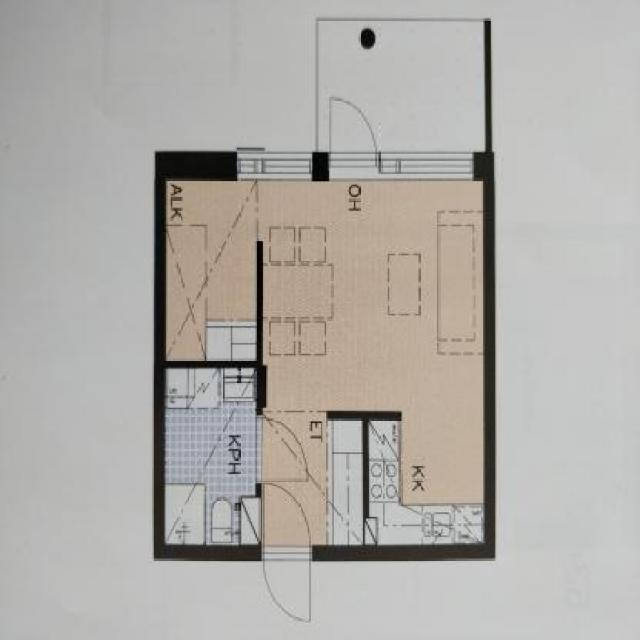door: (258, 478, 322, 624), (256, 412, 310, 490), (330, 95, 376, 174)
window: (237, 151, 314, 183), (374, 152, 471, 177)
zone: (262, 180, 484, 545), (317, 20, 486, 152), (165, 178, 262, 362), (166, 368, 260, 548)
